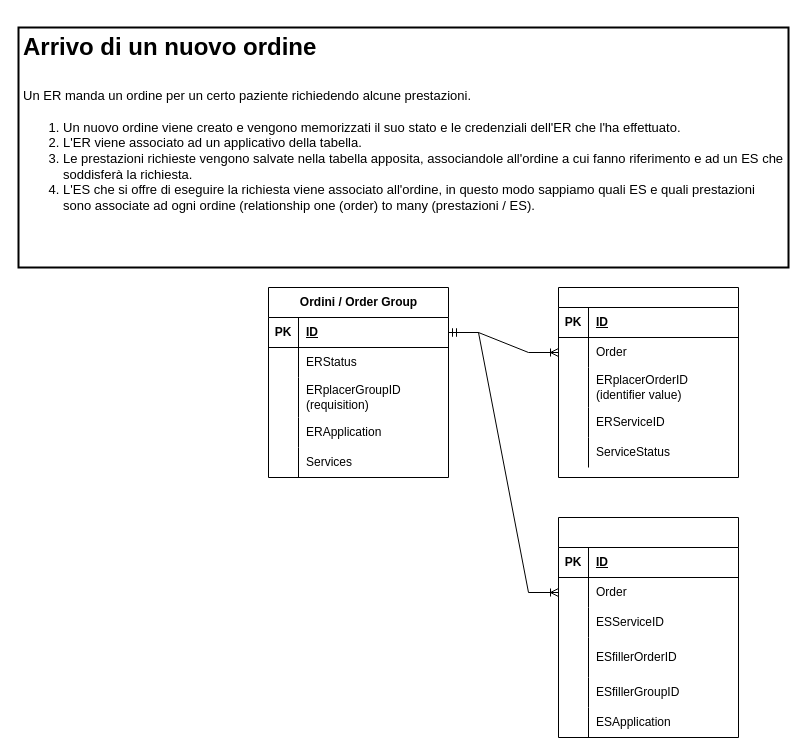
This 806x755 diagram has some shape labels left out. The shapes that lost their labels are listed below. From the top down, each one's box as (x1, y1, x2, y2) in pixels, then its label:
(558, 286, 738, 478): Prestazioni
(558, 516, 738, 738): EntiServenti
